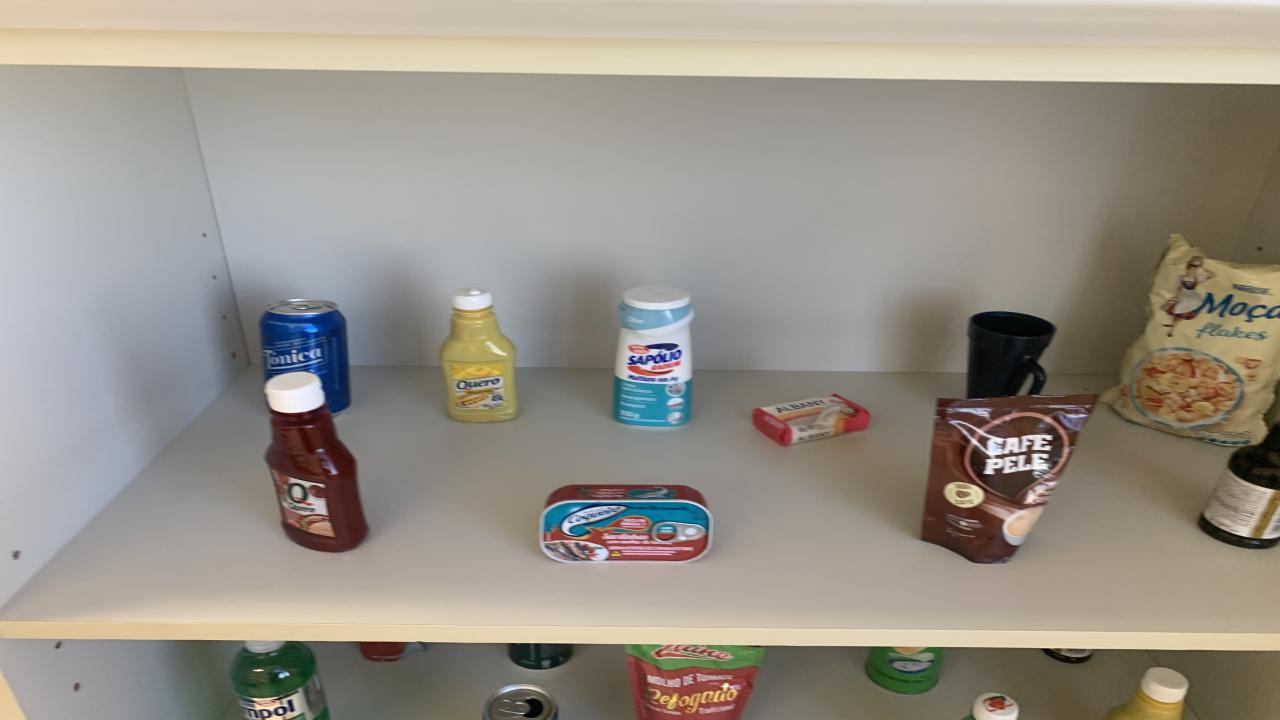Cleaner-Cleanup_Items: (612, 285, 695, 428)
Coffee-Pantry_Items: (922, 394, 1098, 562)
Detergent-Cleanup_Items: (230, 641, 330, 720)
English_Sauce-Pantry_Items: (1200, 424, 1280, 548)
Flakes-Snacks: (1100, 234, 1280, 446)
Guarana-Drinks: (972, 692, 1020, 720)
Guarana_Can-Drinks: (508, 643, 572, 669)
Ketchup-Pantry_Items: (265, 371, 368, 551)
Mustard-Pantry_Items: (440, 287, 518, 422), (1105, 668, 1190, 720)
Pringles-Snacks: (865, 647, 942, 694)
Soap-Cleanup_Items: (752, 394, 870, 444)
Tea-Drinks: (482, 684, 558, 720)
Tomato_Sauce-Pantry_Items: (625, 645, 765, 720), (358, 641, 428, 662)
Tonic-Drinks: (260, 300, 350, 412)
Tuna_Can-Pantry_Items: (540, 484, 712, 562)
